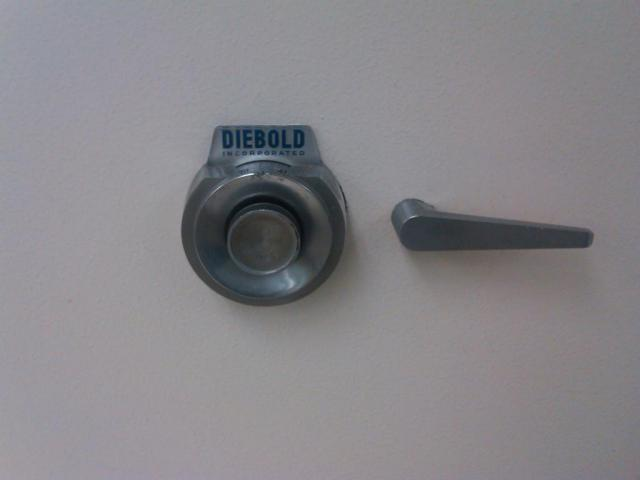Door-handle: (390, 199, 598, 253)
